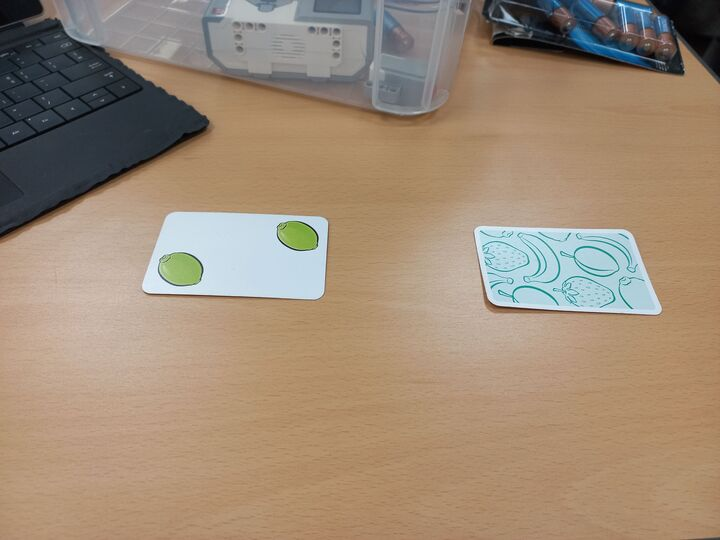lime2: (140, 207, 331, 303)
